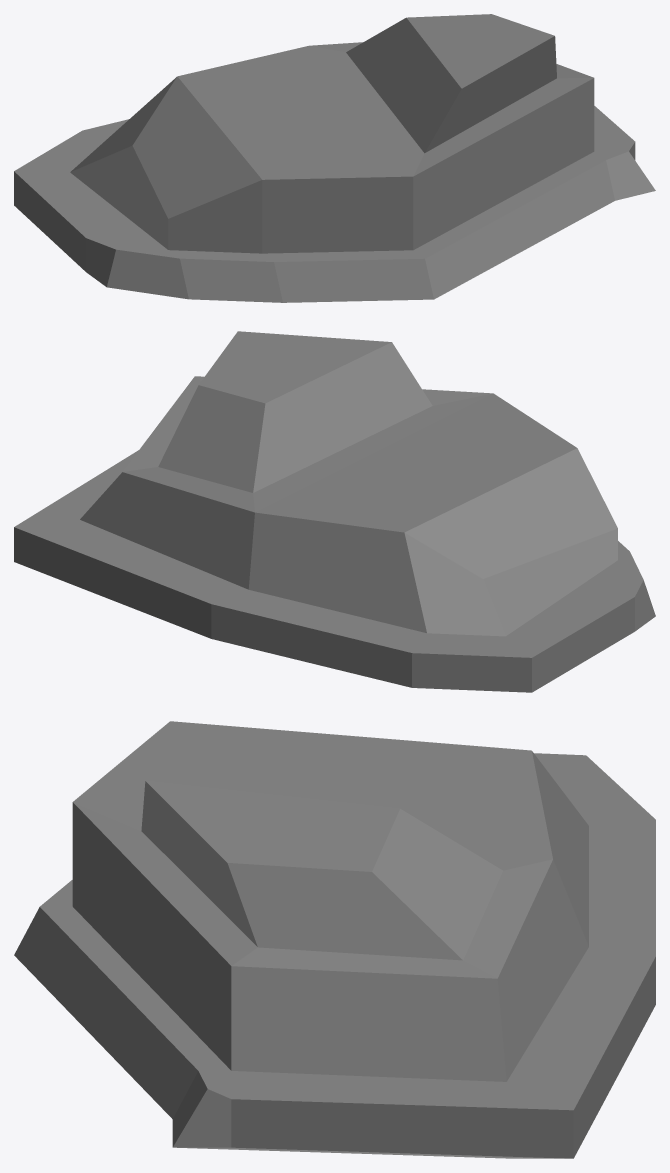
The model's file is Mesh_Rock4.fbx.
3 views of the same model, one above another, from view 1: azimuth 30°, elevation 25°; view 2: azimuth 150°, elevation 25°; view 3: azimuth 270°, elevation 25° (orthographic). The views are drawn at different scales.
Visible parts, largest first — view 1: Mesh_Rock5; view 2: Mesh_Rock5; view 3: Mesh_Rock5.
Boxes of the visible parts, x1,y1,x2,y2 form: Mesh_Rock5: (14,14,655,302); Mesh_Rock5: (14,331,655,692); Mesh_Rock5: (14,721,655,1158).
Bounding box in the file's own units: 2.06 × 0.6017 × 1.53.
1 material, 1 textured.
